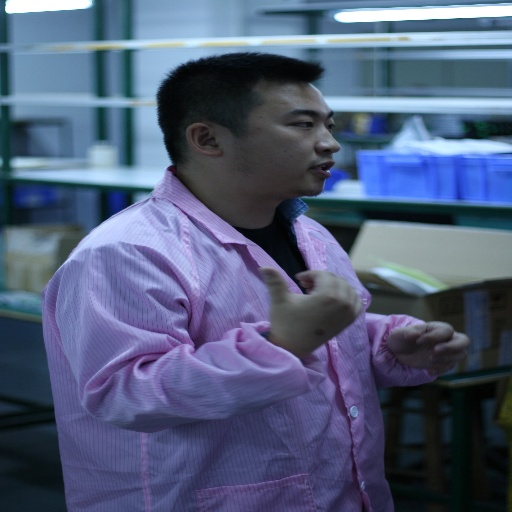hand: (268, 254, 376, 354), (381, 318, 476, 376)
